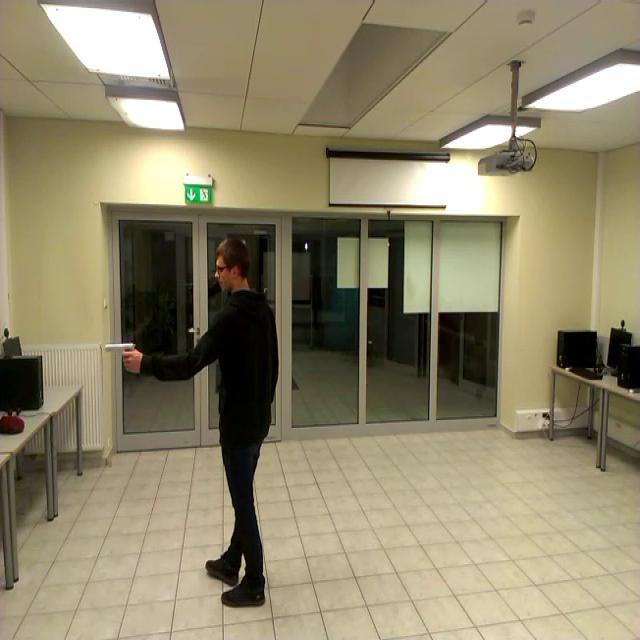Gun: (105, 341, 136, 366)
